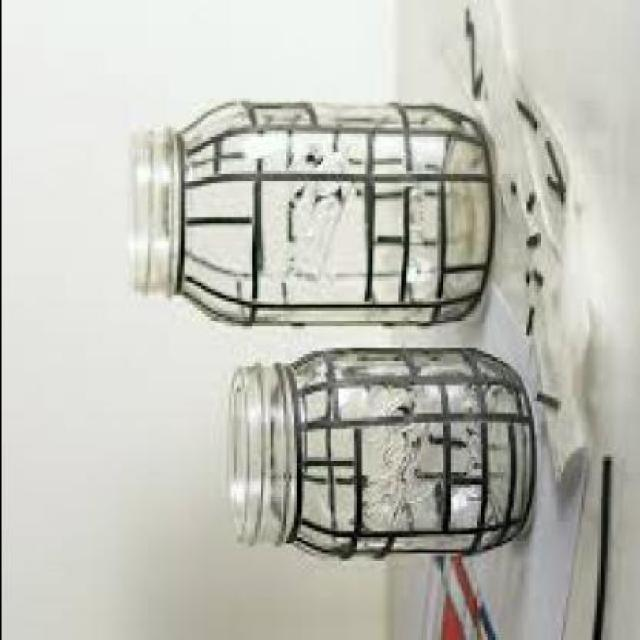GLASS: (122, 99, 492, 321), (224, 345, 536, 563)
